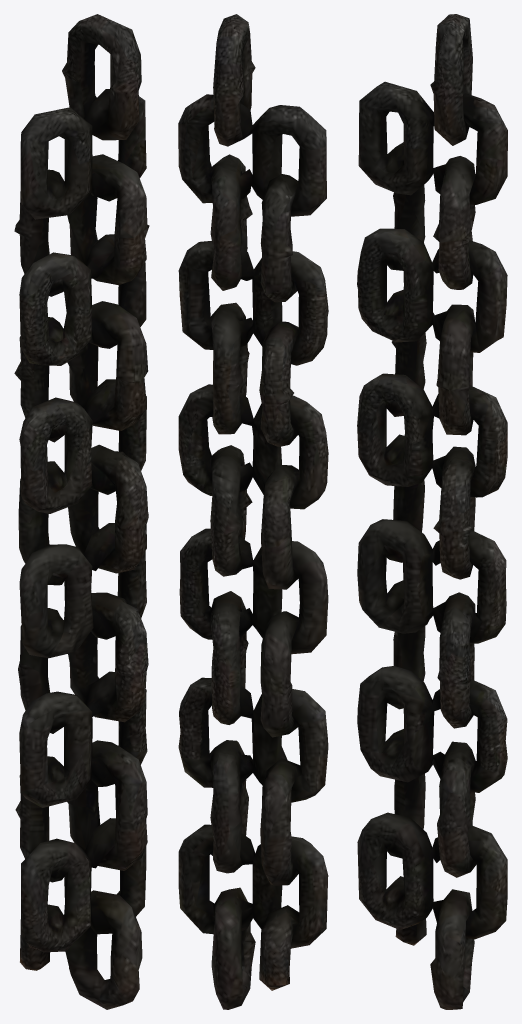
The model's file is chain.glb.
The picture shows the model from 3 angles, left to right: view 1: azimuth 30°, elevation 25°; view 2: azimuth 150°, elevation 25°; view 3: azimuth 330°, elevation 25°; orthographic projection.
Parts seen in each view (by area): view 1: chain; view 2: chain; view 3: chain.
Part boxes in pixels (x1,y1,x2,y2): chain: (14,14,149,1009); chain: (178,14,328,1009); chain: (357,14,507,1009).
Size of the model in its own units: 0.1443 by 1 by 0.0792.
1 material, 1 textured.
